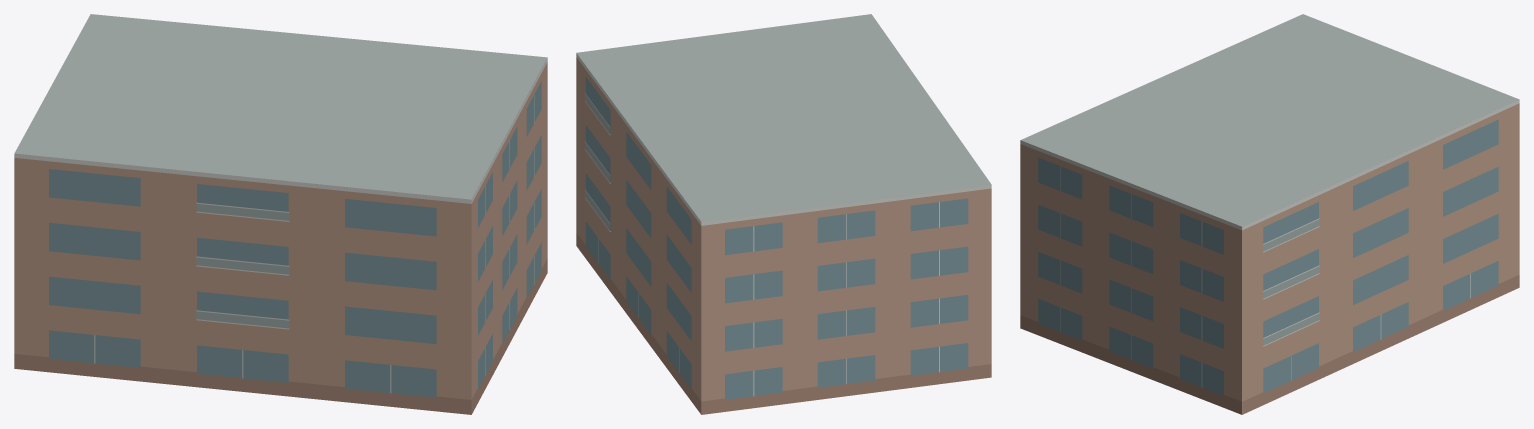
Rendered from survey-upis-32989810.glb.
The picture shows the model from 3 angles, left to right: view 1: azimuth 30°, elevation 25°; view 2: azimuth 150°, elevation 25°; view 3: azimuth 270°, elevation 25°; orthographic projection. The views are drawn at different scales.
Visible parts, largest first — view 1: survey-upis-32989810.tmp; view 2: survey-upis-32989810.tmp; view 3: survey-upis-32989810.tmp.
Part boxes in pixels (x1,y1,x2,y2): survey-upis-32989810.tmp: (14, 14, 547, 414); survey-upis-32989810.tmp: (576, 14, 991, 414); survey-upis-32989810.tmp: (1020, 14, 1519, 414).
Size of the model in its own units: 29.58 by 12.2 by 29.33.
